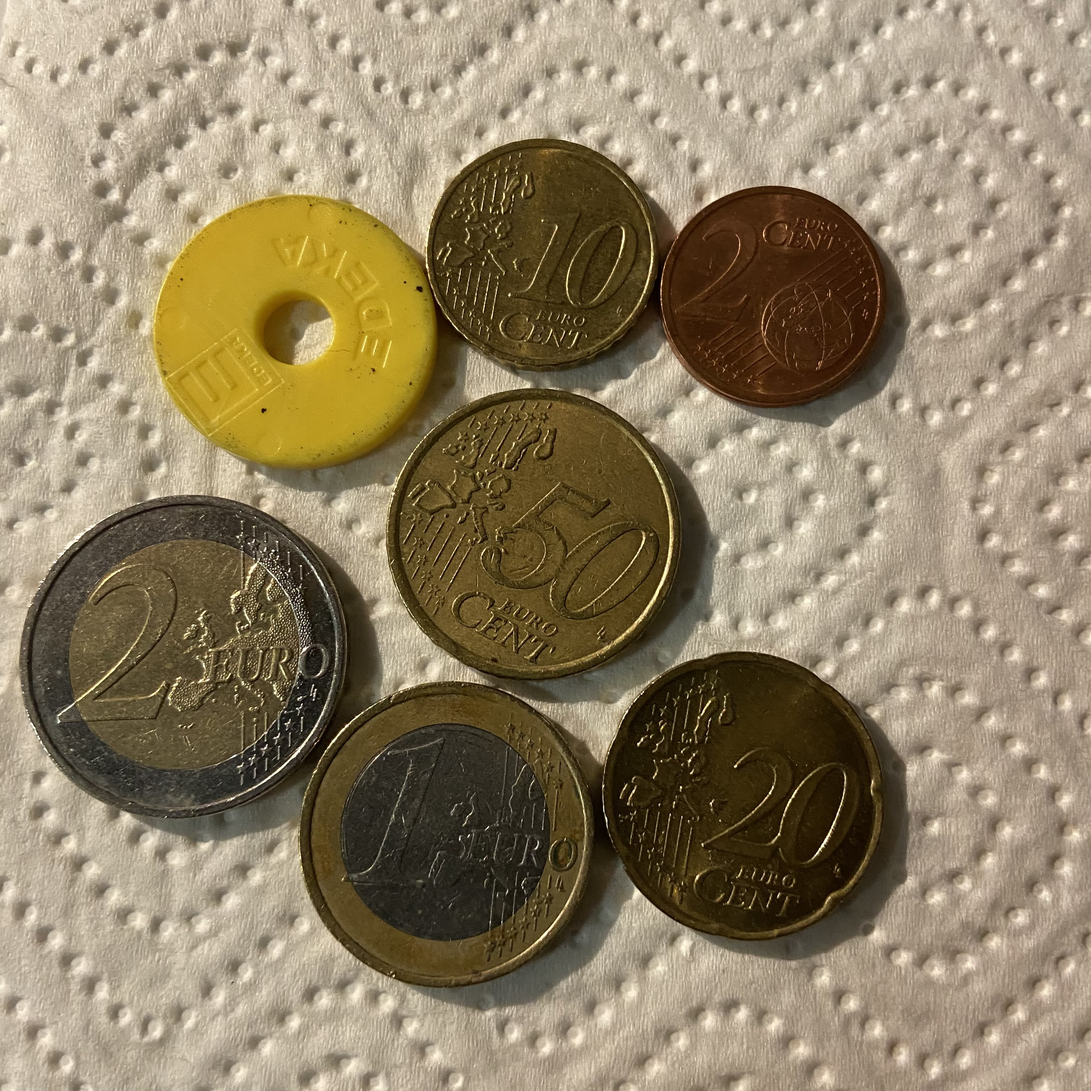1 euro: (298, 679, 598, 994)
10 cent: (421, 122, 670, 383)
2 cent: (661, 186, 886, 407)
2 euro: (12, 491, 355, 832)
20 cent: (603, 652, 883, 939)
50 cent: (380, 390, 692, 676)
